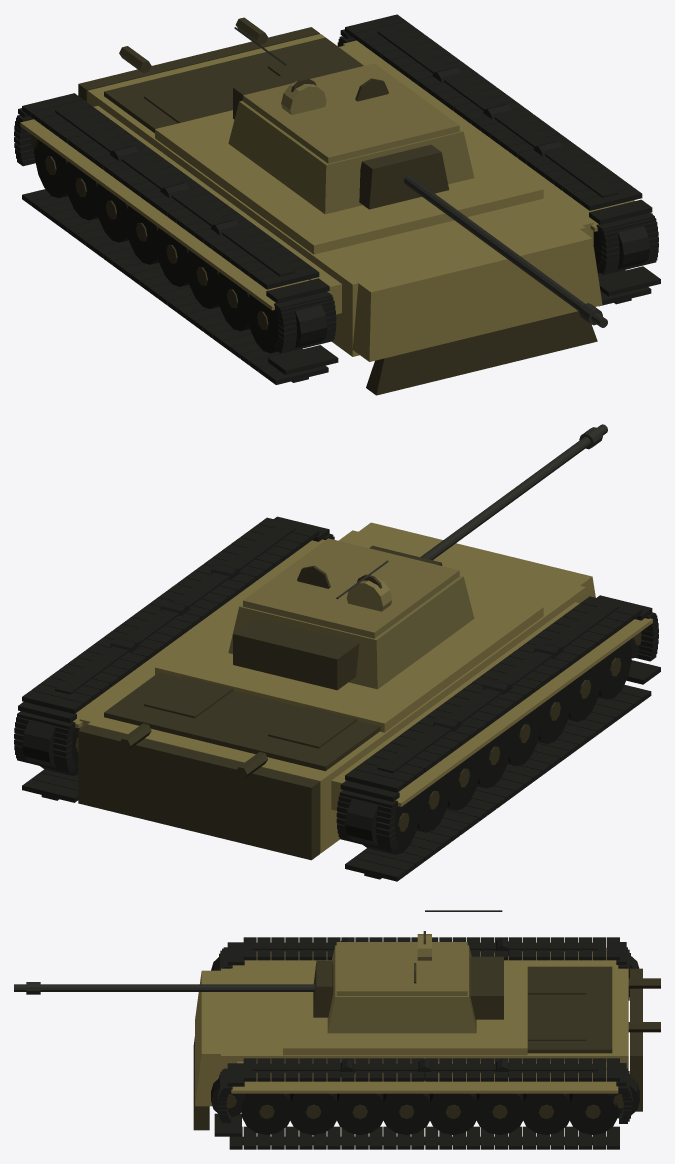
The model's file is tiger1.obj.
The picture shows the model from 3 angles, top to bottom: view 1: azimuth 30°, elevation 25°; view 2: azimuth 150°, elevation 25°; view 3: azimuth 270°, elevation 25°; orthographic projection. The views are drawn at different scales.
Parts seen in each view (by area): view 1: track_links_l, glacis, hull_deck, track_links_r, hull_lower, turret_roof, turret_base, lower_glacis, engine_deck, fender_l, mantlet, track_guide_r (+20 smaller); view 2: track_links_l, rear_plate, hull_deck, track_links_r, hull_lower, turret_roof, engine_deck, turret_base, turret_rear, fender_l, track_guide_l, track_guide_r (+18 smaller); view 3: track_links_r, hull_deck, hull_lower, turret_roof, turret_base, track_links_l, fender_r, engine_deck, glacis, track_guide_r, barrel, turret_rear (+20 smaller).
Part boxes in pixels (left/top/right/bottom): track_links_l: left=14, top=93, right=338, bottom=384; glacis: left=352, top=229, right=602, bottom=361; hull_deck: left=155, top=110, right=543, bottom=254; track_links_r: left=337, top=14, right=660, bottom=306; hull_lower: left=87, top=34, right=585, bottom=356; turret_roof: left=243, top=63, right=459, bottom=163; turret_base: left=228, top=100, right=474, bottom=214; lower_glacis: left=366, top=311, right=597, bottom=395; engine_deck: left=104, top=37, right=363, bottom=133; fender_l: left=20, top=119, right=330, bottom=310; mantlet: left=359, top=144, right=449, bottom=209; track_guide_r: left=377, top=27, right=631, bottom=304; track_links_l: left=336, top=595, right=660, bottom=881; rear_plate: left=78, top=725, right=319, bottom=860; hull_deck: left=155, top=588, right=543, bottom=732; track_links_r: left=14, top=516, right=334, bottom=802; hull_lower: left=87, top=530, right=585, bottom=853; turret_roof: left=243, top=538, right=459, bottom=638; engine_deck: left=104, top=672, right=380, bottom=771; turret_base: left=228, top=575, right=474, bottom=689; turret_rear: left=233, top=618, right=359, bottom=690; fender_l: left=395, top=618, right=652, bottom=806; track_guide_l: left=364, top=603, right=618, bottom=879; track_guide_r: left=41, top=524, right=295, bottom=800; track_links_r: left=214, top=1058, right=632, bottom=1149; hull_deck: left=283, top=962, right=527, bottom=1055; hull_lower: left=221, top=968, right=628, bottom=1071; turret_roof: left=336, top=942, right=467, bottom=995; turret_base: left=327, top=945, right=476, bottom=1033; track_links_l: left=218, top=937, right=630, bottom=1000; fender_r: left=231, top=1070, right=618, bottom=1093; engine_deck: left=527, top=966, right=612, bottom=1053; glacis: left=195, top=970, right=220, bottom=1106; track_guide_r: left=242, top=1063, right=606, bottom=1145; barrel: left=14, top=984, right=315, bottom=991; turret_rear: left=470, top=956, right=503, bottom=1019.
Size of the model in its own units: 5.23 by 2.72 by 10.
